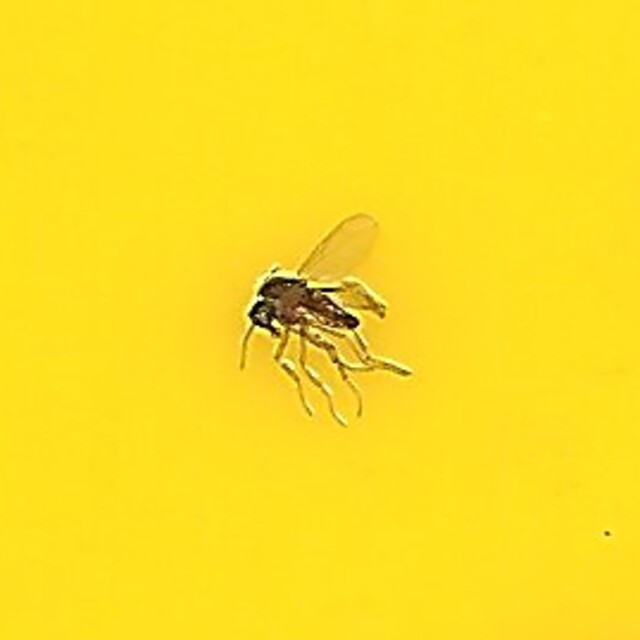Brachycera: (238, 221, 402, 419)
